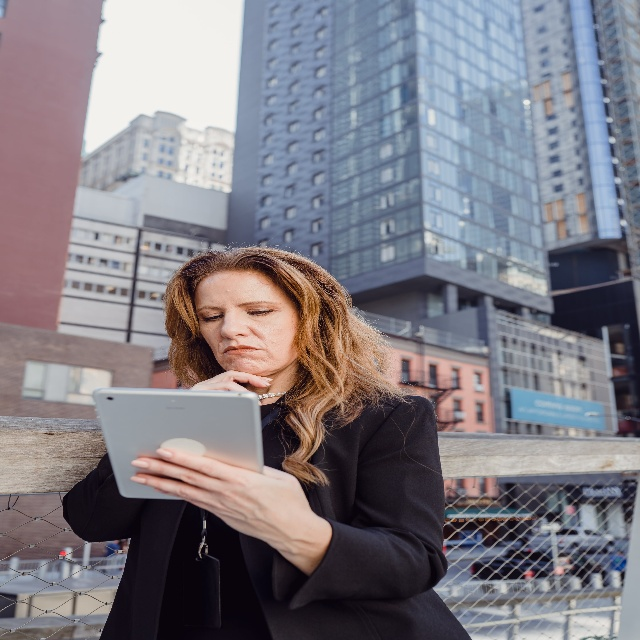Sin_guantes: (130, 447, 314, 556), (188, 369, 272, 391)
